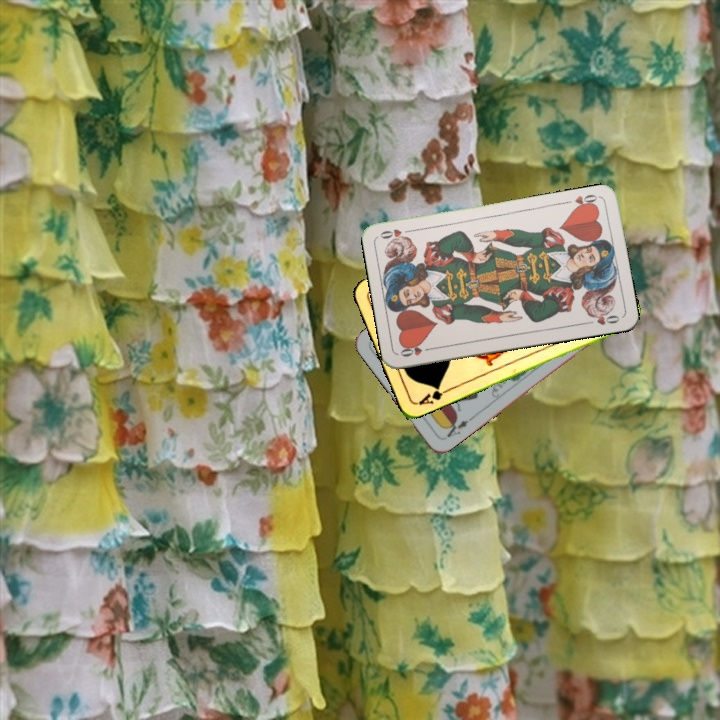EA: (440, 413, 475, 440)
GA: (414, 381, 452, 408)
HO: (569, 190, 602, 212), (396, 341, 436, 359)
